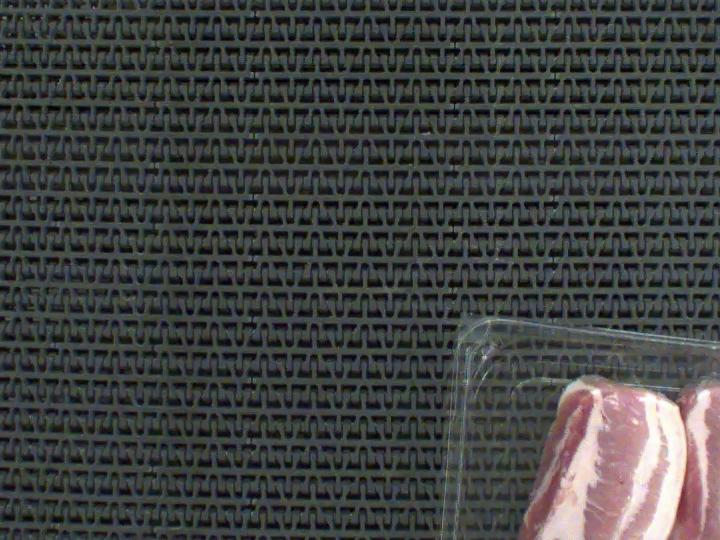unsealed: (674, 326, 720, 422)
